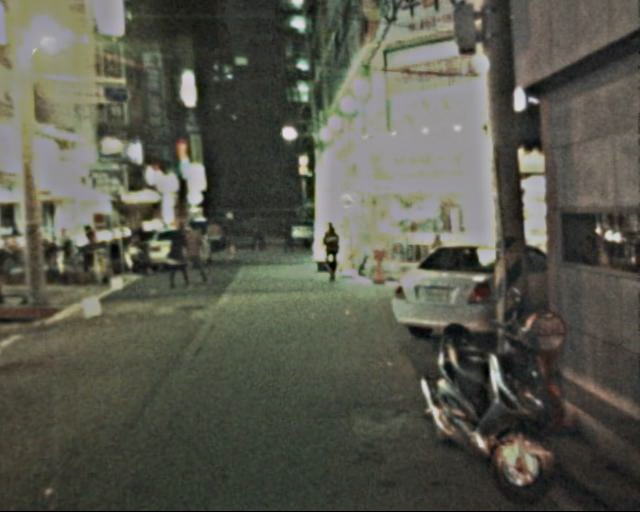person: (175, 220, 208, 287), (314, 219, 344, 283), (160, 224, 187, 288), (217, 208, 242, 257), (244, 209, 266, 253), (274, 218, 292, 255)
